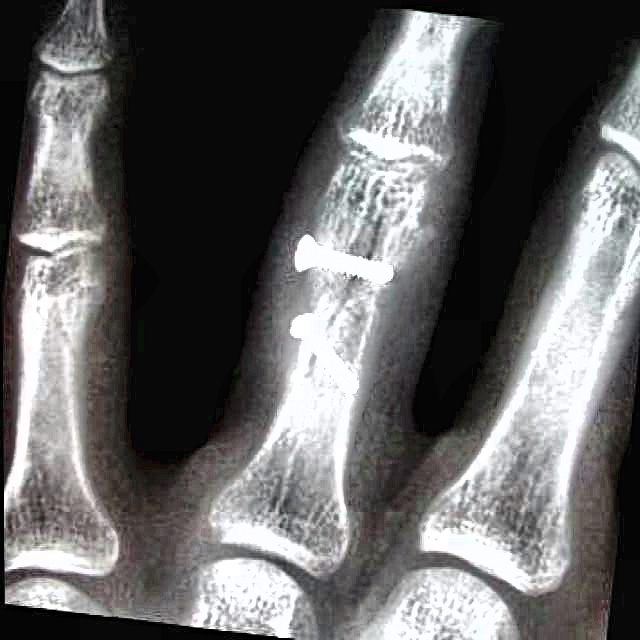Oblique Displaced: (276, 223, 393, 398)
